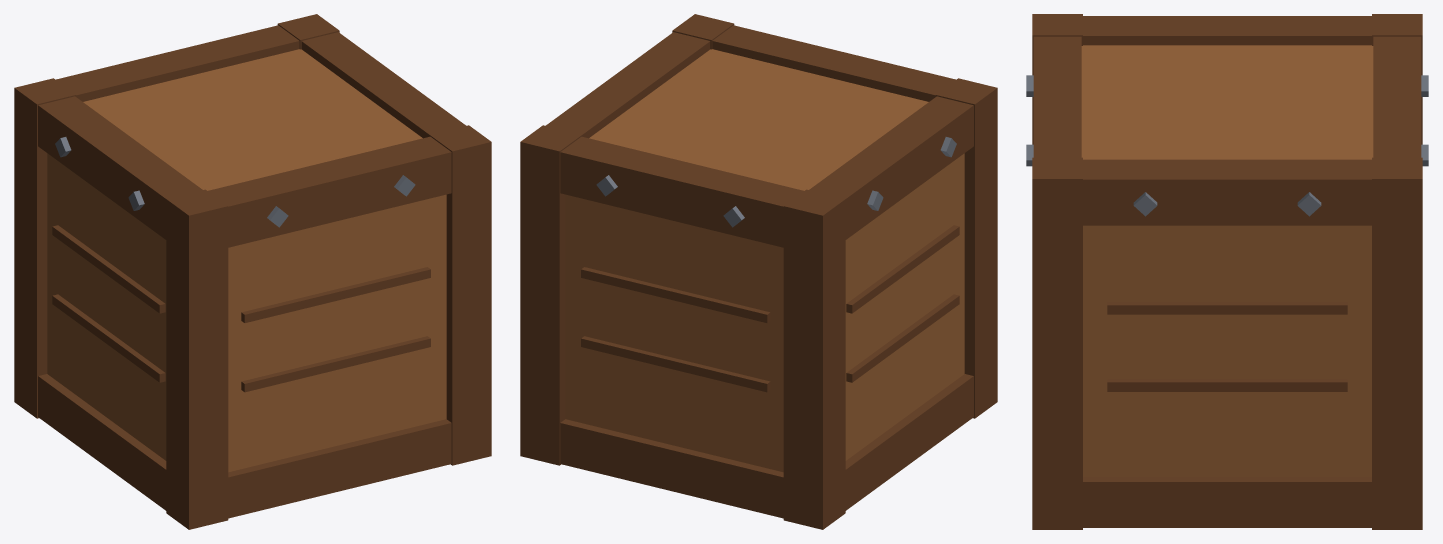
Rendered from Crate.fbx.
The picture shows the model from 3 angles, left to right: view 1: azimuth 30°, elevation 25°; view 2: azimuth 150°, elevation 25°; view 3: azimuth 270°, elevation 25°; orthographic projection. The views are drawn at different scales.
Visible parts, largest first — view 1: WoodDark, Wood, Steel; view 2: WoodDark, Wood, Steel; view 3: Wood, WoodDark, Steel.
Boxes of the visible parts, box(x1,y1,x2,y2) form: WoodDark: box(14, 14, 491, 529); Wood: box(47, 49, 446, 472); Steel: box(55, 137, 415, 227); WoodDark: box(520, 14, 997, 529); Wood: box(565, 49, 964, 472); Steel: box(596, 137, 956, 227); Wood: box(1081, 45, 1373, 477); WoodDark: box(1032, 14, 1422, 529); Steel: box(1026, 75, 1428, 216).
Size of the model in its own units: 2.7 by 2.6 by 2.7.
